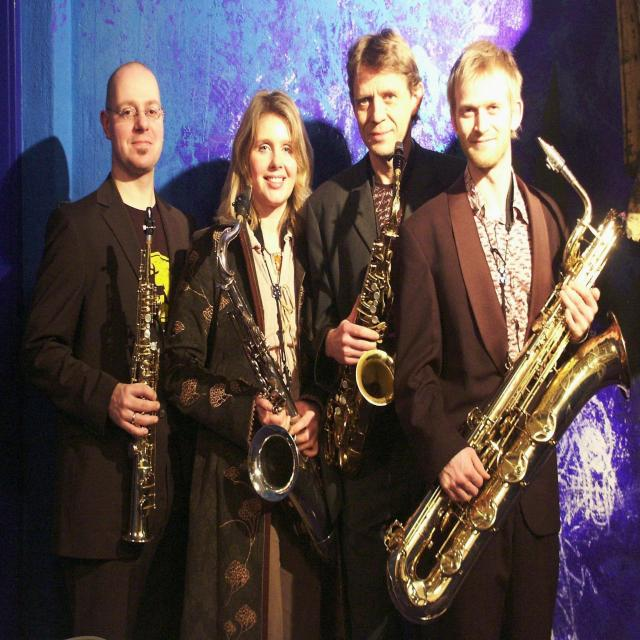saxophone: (382, 137, 640, 624), (220, 184, 342, 562), (321, 140, 404, 472)
